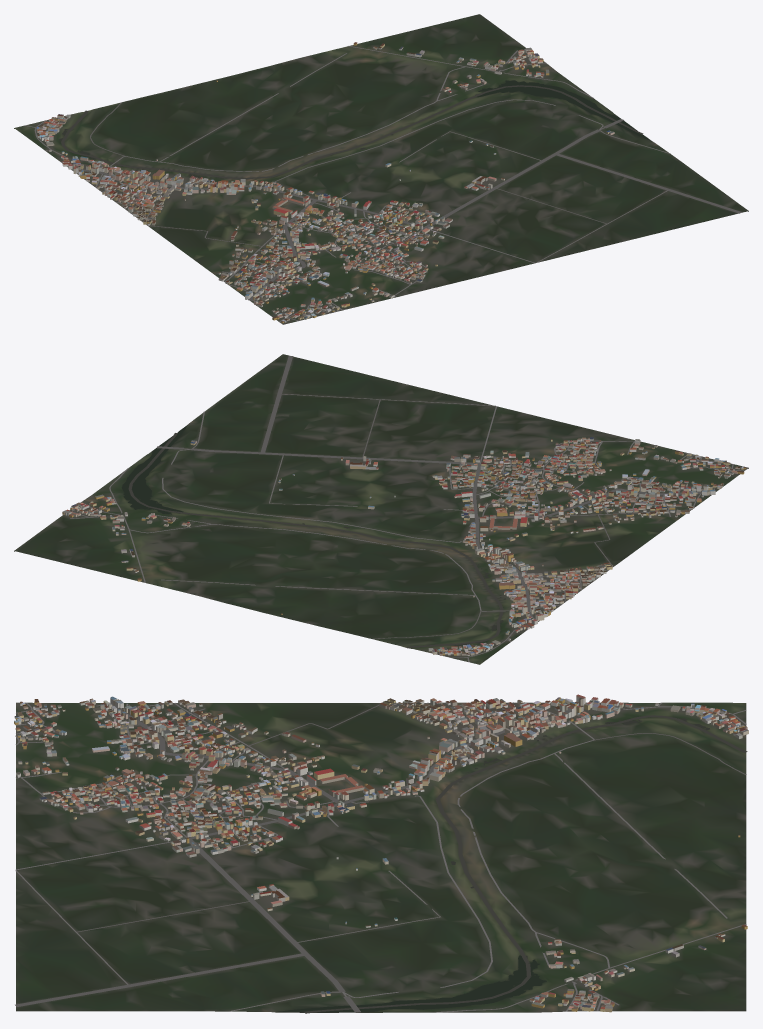
3 views of the same model, one above another, from view 1: azimuth 30°, elevation 25°; view 2: azimuth 150°, elevation 25°; view 3: azimuth 270°, elevation 25° (orthographic). The views are drawn at different scales.
Visible parts, largest first — view 1: ground, buildings, roads, water; view 2: ground, buildings, roads, water; view 3: ground, buildings, roads, water.
Boxes of the visible parts, <box> form: ground: <box>14,14,748,324</box>; buildings: <box>36,42,614,323</box>; roads: <box>25,46,741,321</box>; water: <box>59,80,651,179</box>; ground: <box>14,354,748,664</box>; buildings: <box>62,437,746,655</box>; roads: <box>70,356,744,662</box>; water: <box>121,425,505,648</box>; ground: <box>16,702,746,1012</box>; buildings: <box>14,694,748,1012</box>; roads: <box>15,702,746,1012</box>; water: <box>278,715,747,1013</box>.
Size of the model in its own units: 1413 by 27.47 by 1411.
